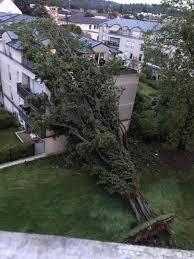Downstairs: (15, 14, 166, 238)
